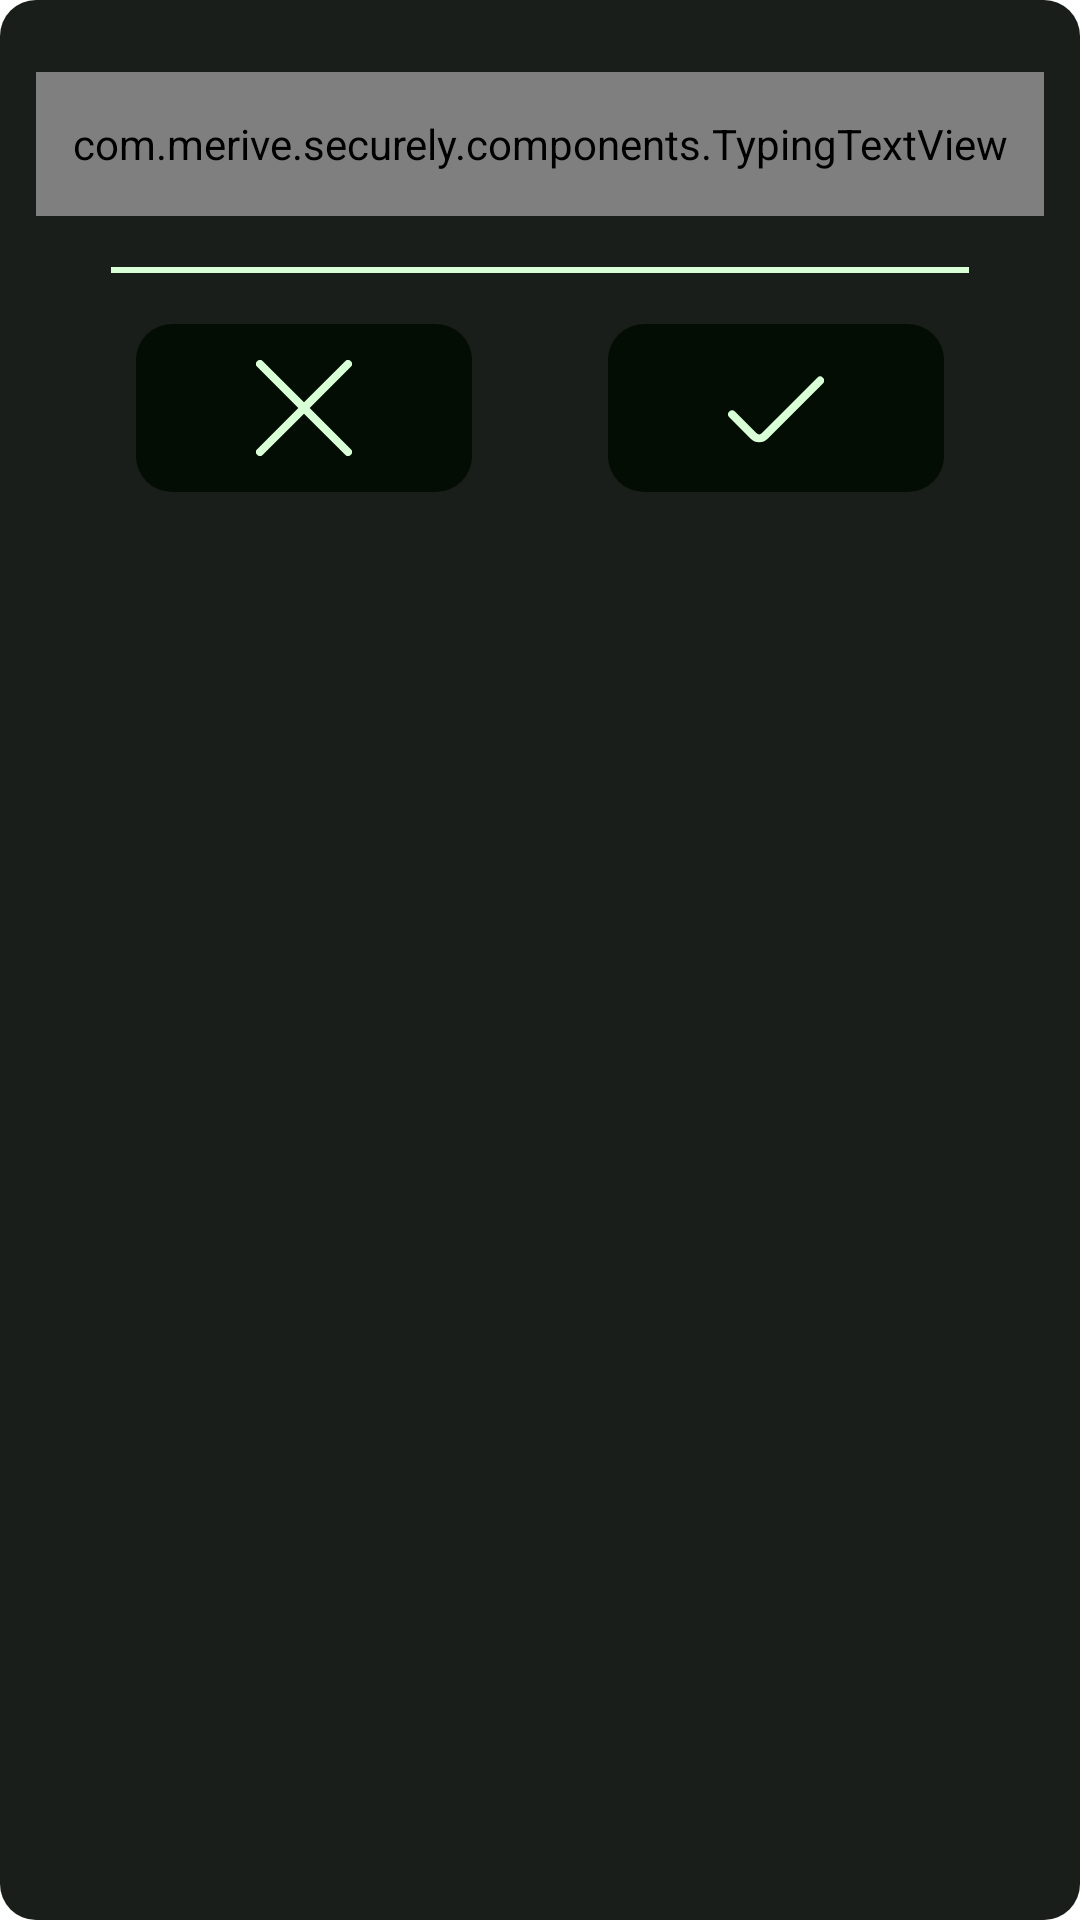

Screen size 1080 × 1920. Icon name, then its box in pixels as (x1=x1, y1=y1, x2=x2, y2=y2):
cancel: (x1=136, y1=324, x2=472, y2=492)
confirm: (x1=608, y1=324, x2=944, y2=492)
